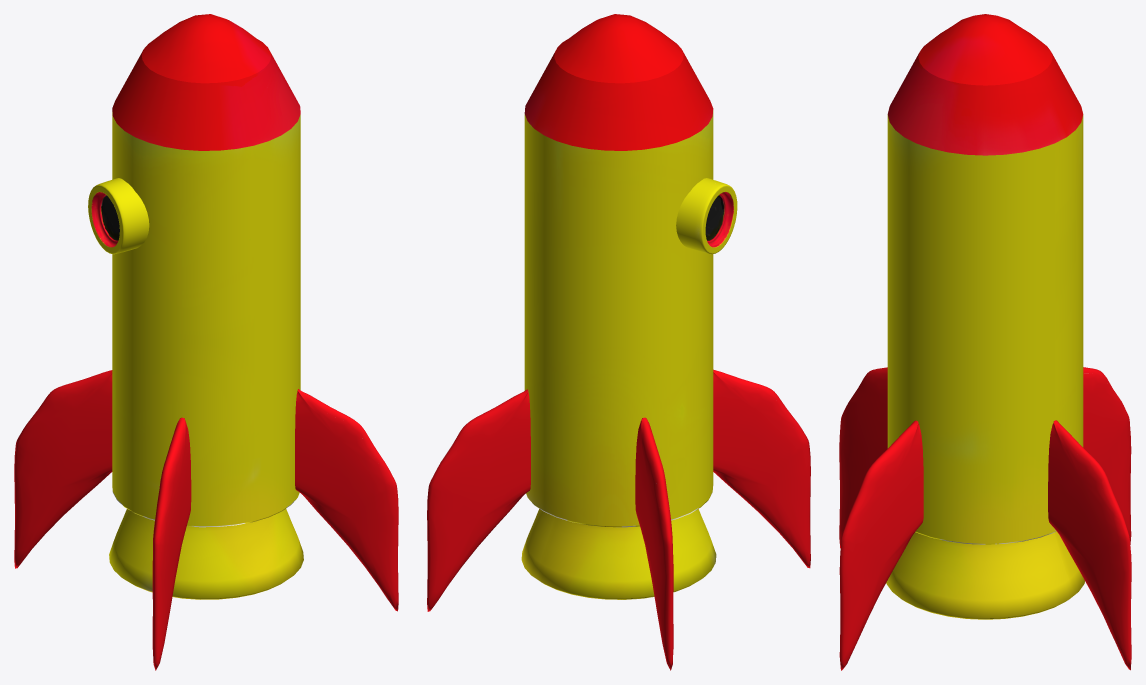
The model's file is raketa_2_3.fbx.
3 views of the same model, side by side, from view 1: azimuth 30°, elevation 25°; view 2: azimuth 150°, elevation 25°; view 3: azimuth 270°, elevation 25° (orthographic). The views are drawn at different scales.
Parts seen in each view (by area): view 1: Window; view 2: Window; view 3: Window.
Boxes of the visible parts, bbox=[...] form: Window: bbox=[14, 14, 398, 670]; Window: bbox=[427, 14, 810, 670]; Window: bbox=[839, 14, 1131, 670].
Bounding box in the file's own units: 540 × 1206 × 540.
